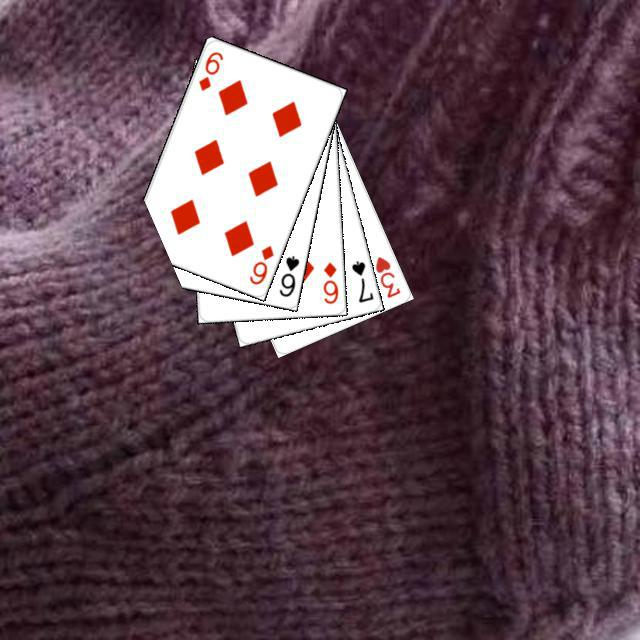3h: (370, 251, 402, 300)
6d: (194, 46, 225, 93), (244, 240, 275, 286), (318, 257, 340, 305)
6s: (274, 251, 301, 298)
7s: (347, 256, 375, 304)
